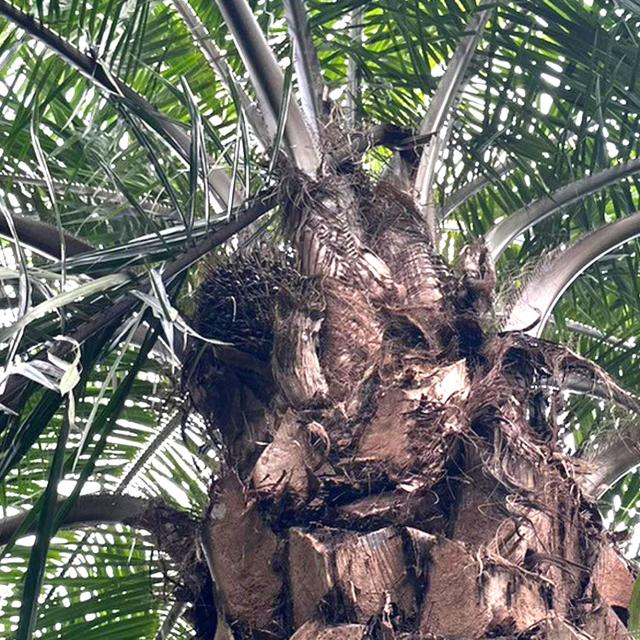unripe: (188, 249, 318, 367)
